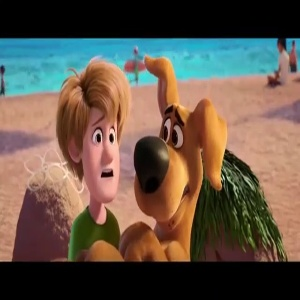Scooby: (131, 53, 224, 233)
Shagy: (54, 55, 126, 203)
